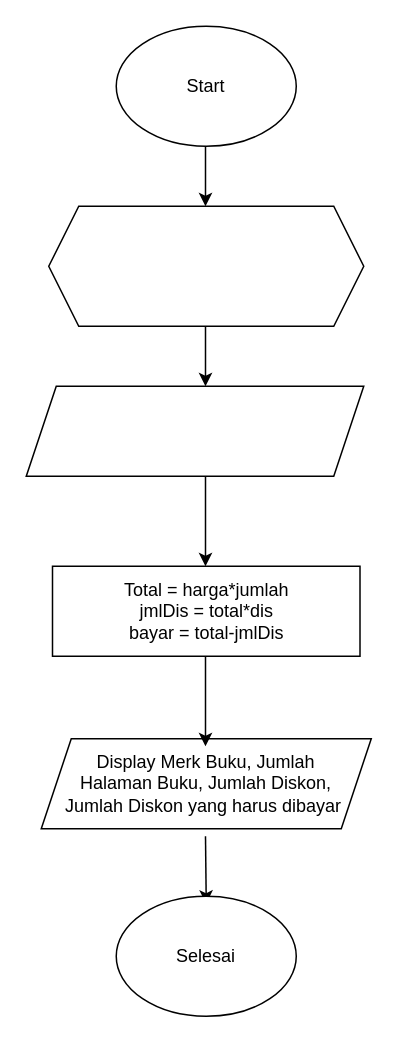
Some shapes in this 398 by 1043 pixel diagram are drawn without their labels. Here are the shapes that lost their labels. From the top down, the box of each, then its label:
(47, 205, 364, 326): Int harga, jumlah, jmlHalBuku Double dis, total, bayar, jmlDis String merkBuku
(25, 385, 364, 476): Input merkBuku, jumlah, jmlBuku, harga,dis
